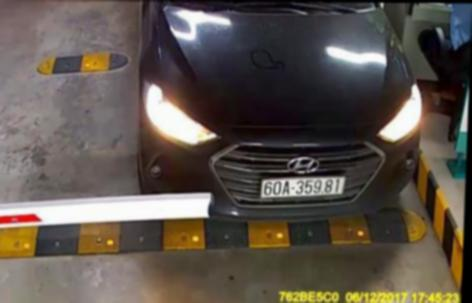License_Plate: (255, 173, 346, 203)
